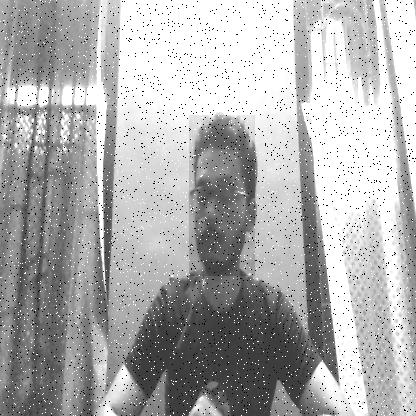Distracted: (189, 115, 255, 276)
